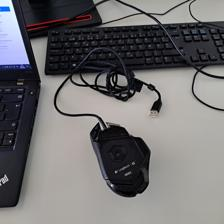mouse: (88, 120, 151, 198)
